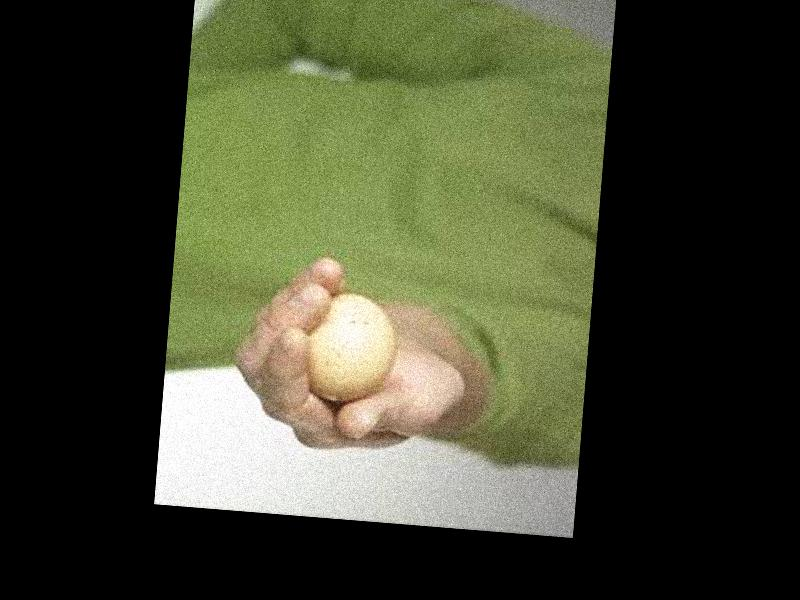Eggs: (302, 289, 398, 404)
